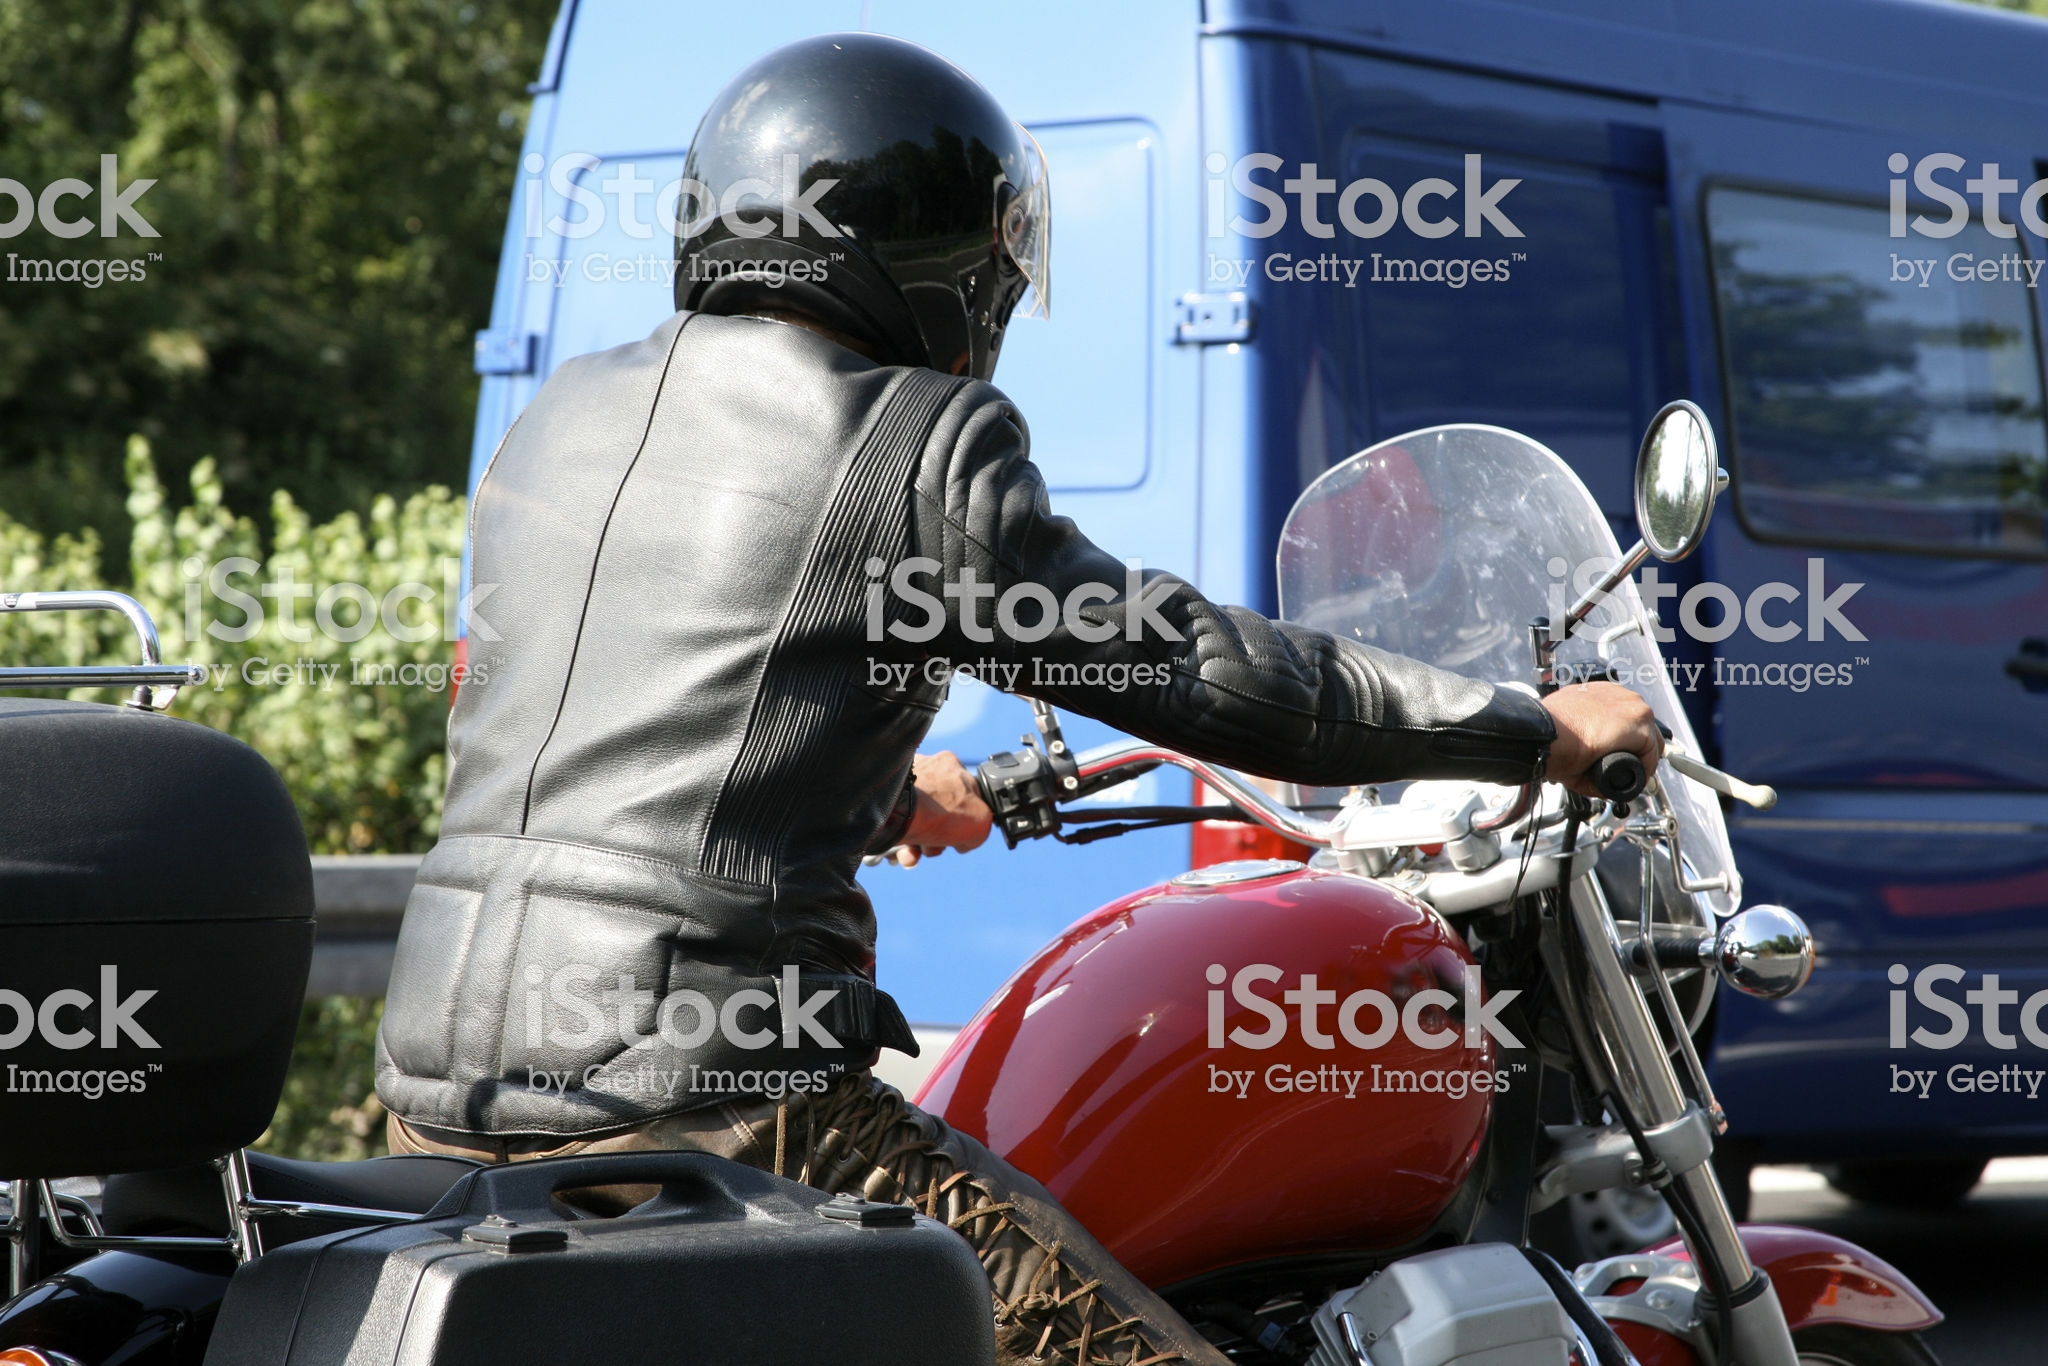helmet: (652, 50, 1077, 364)
